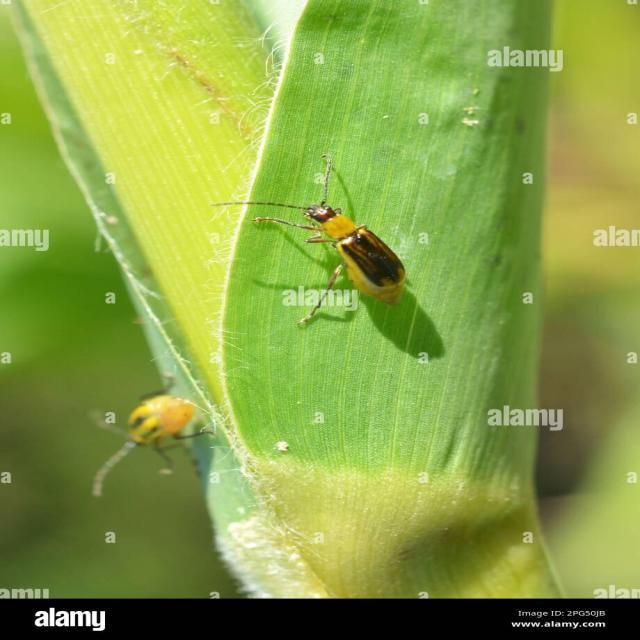trips: (211, 154, 404, 326), (84, 373, 222, 498)
